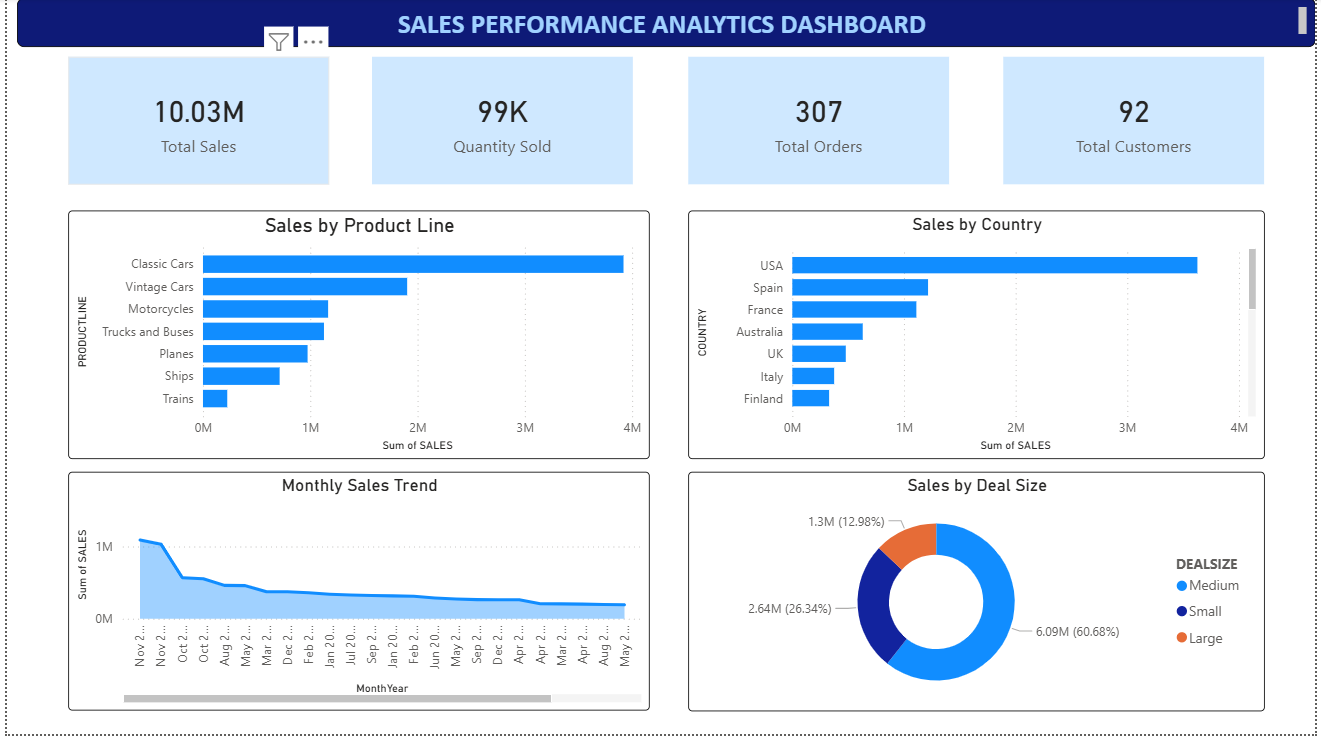

The page's visual inventory and layout, read from the dashboard file:
{"tool":"powerbi","page":{"name":"Page 1","canvas":[1280,720],"ordinal":0},"visuals":[{"type":"textbox","box":[10.2,0,1269.9,78.4],"z":0},{"type":"textbox","box":[9.8,0,1270.5,47.7],"z":1000},{"type":"card","fields":{"Values":["Sum(sales_analysis sales_data.SALES)"]},"box":[59.9,57.5,255.6,124.7],"z":2000},{"type":"card","fields":{"Values":["Sum(sales_analysis sales_data.QUANTITYORDERED)"]},"box":[357.1,57.5,255.6,124.7],"z":3000},{"type":"card","fields":{"Values":["Count(sales_analysis sales_data.ORDERNUMBER)"]},"box":[666.4,57.5,255.6,124.7],"z":4000},{"type":"card","fields":{"Values":["Count(sales_analysis sales_data.CUSTOMERNAME)"]},"box":[974.6,57.5,255.6,124.7],"z":5000},{"type":"barChart","title":"Sales by Product Line","fields":{"Category":["sales_analysis sales_data.PRODUCTLINE"],"Y":["Sum(sales_analysis sales_data.SALES)"]},"box":[59.9,207.9,568.6,243.3],"z":6000},{"type":"areaChart","title":"Monthly Sales Trend","fields":{"Category":["sales_analysis sales_data.MonthYear"],"Y":["Sum(sales_analysis sales_data.SALES)"]},"box":[59.9,463.5,568.6,233.6],"z":7000},{"type":"clusteredBarChart","title":" Sales by Country","fields":{"Category":["sales_analysis sales_data.COUNTRY"],"Y":["Sum(sales_analysis sales_data.SALES)"]},"box":[666.4,207.9,563.7,243.3],"z":8000},{"type":"donutChart","title":" Sales by Deal Size","fields":{"Category":["sales_analysis sales_data.DEALSIZE"],"Y":["Sum(sales_analysis sales_data.SALES)"]},"box":[666,463,564,234],"z":9000}]}

Visuals, with their boxes in screenshot pixels (x1, y1, x2, y2), scaled from the page's 1280x720 canvas onto the 1321x737 screenshot:
textbox: x1=11 y1=0 x2=1320 y2=80
textbox: x1=10 y1=0 x2=1320 y2=49
card - Sum(sales_analysis sales_data.SALES): x1=62 y1=59 x2=326 y2=187
card - Sum(sales_analysis sales_data.QUANTITYORDERED): x1=369 y1=59 x2=632 y2=187
card - Count(sales_analysis sales_data.ORDERNUMBER): x1=688 y1=59 x2=952 y2=187
card - Count(sales_analysis sales_data.CUSTOMERNAME): x1=1006 y1=59 x2=1270 y2=187
"Sales by Product Line" barChart: x1=62 y1=213 x2=649 y2=462
"Monthly Sales Trend" areaChart: x1=62 y1=474 x2=649 y2=714
" Sales by Country" clusteredBarChart: x1=688 y1=213 x2=1270 y2=462
" Sales by Deal Size" donutChart: x1=687 y1=474 x2=1269 y2=713
